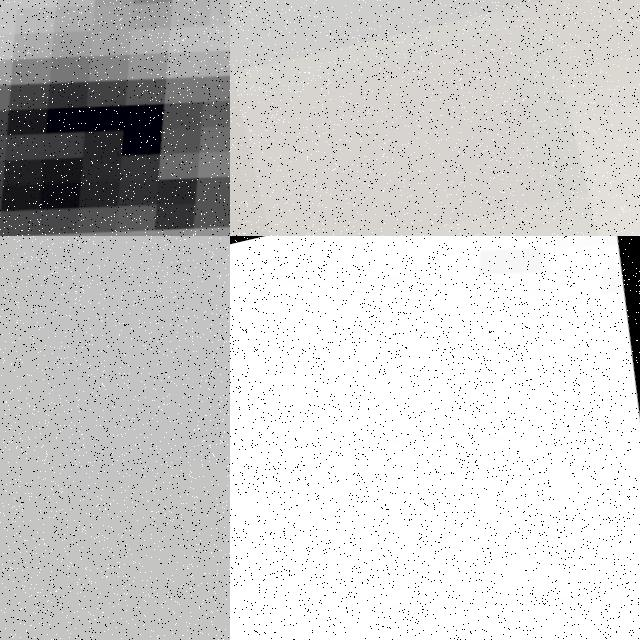0: (0, 0, 230, 236)
drone: (230, 236, 640, 640)
